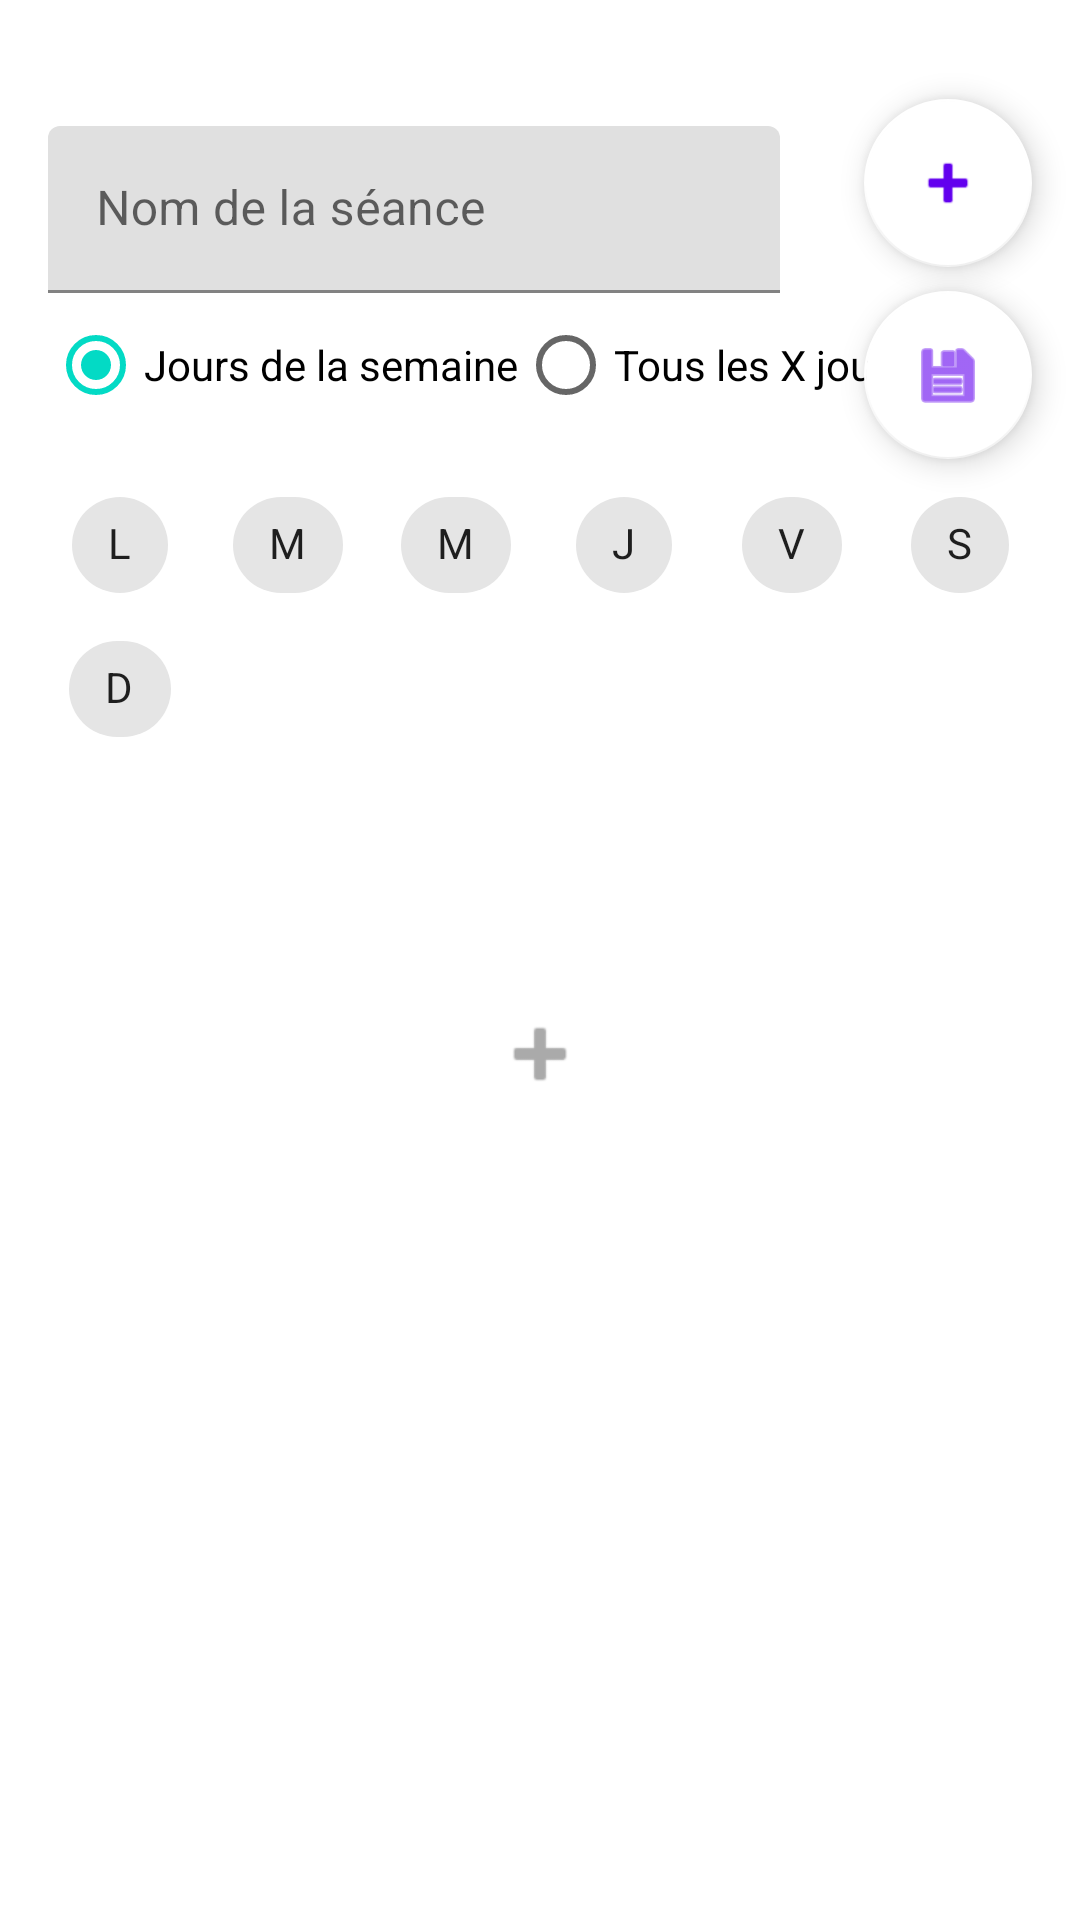

Locate icon controls on the screen. Image size 1080 × 1920, boxes as {"x1": x1, "y1": y1, "x2": x2, "y2": y2}.
Ajouter un exercice à la séance: {"x1": 513, "y1": 1027, "x2": 567, "y2": 1081}
